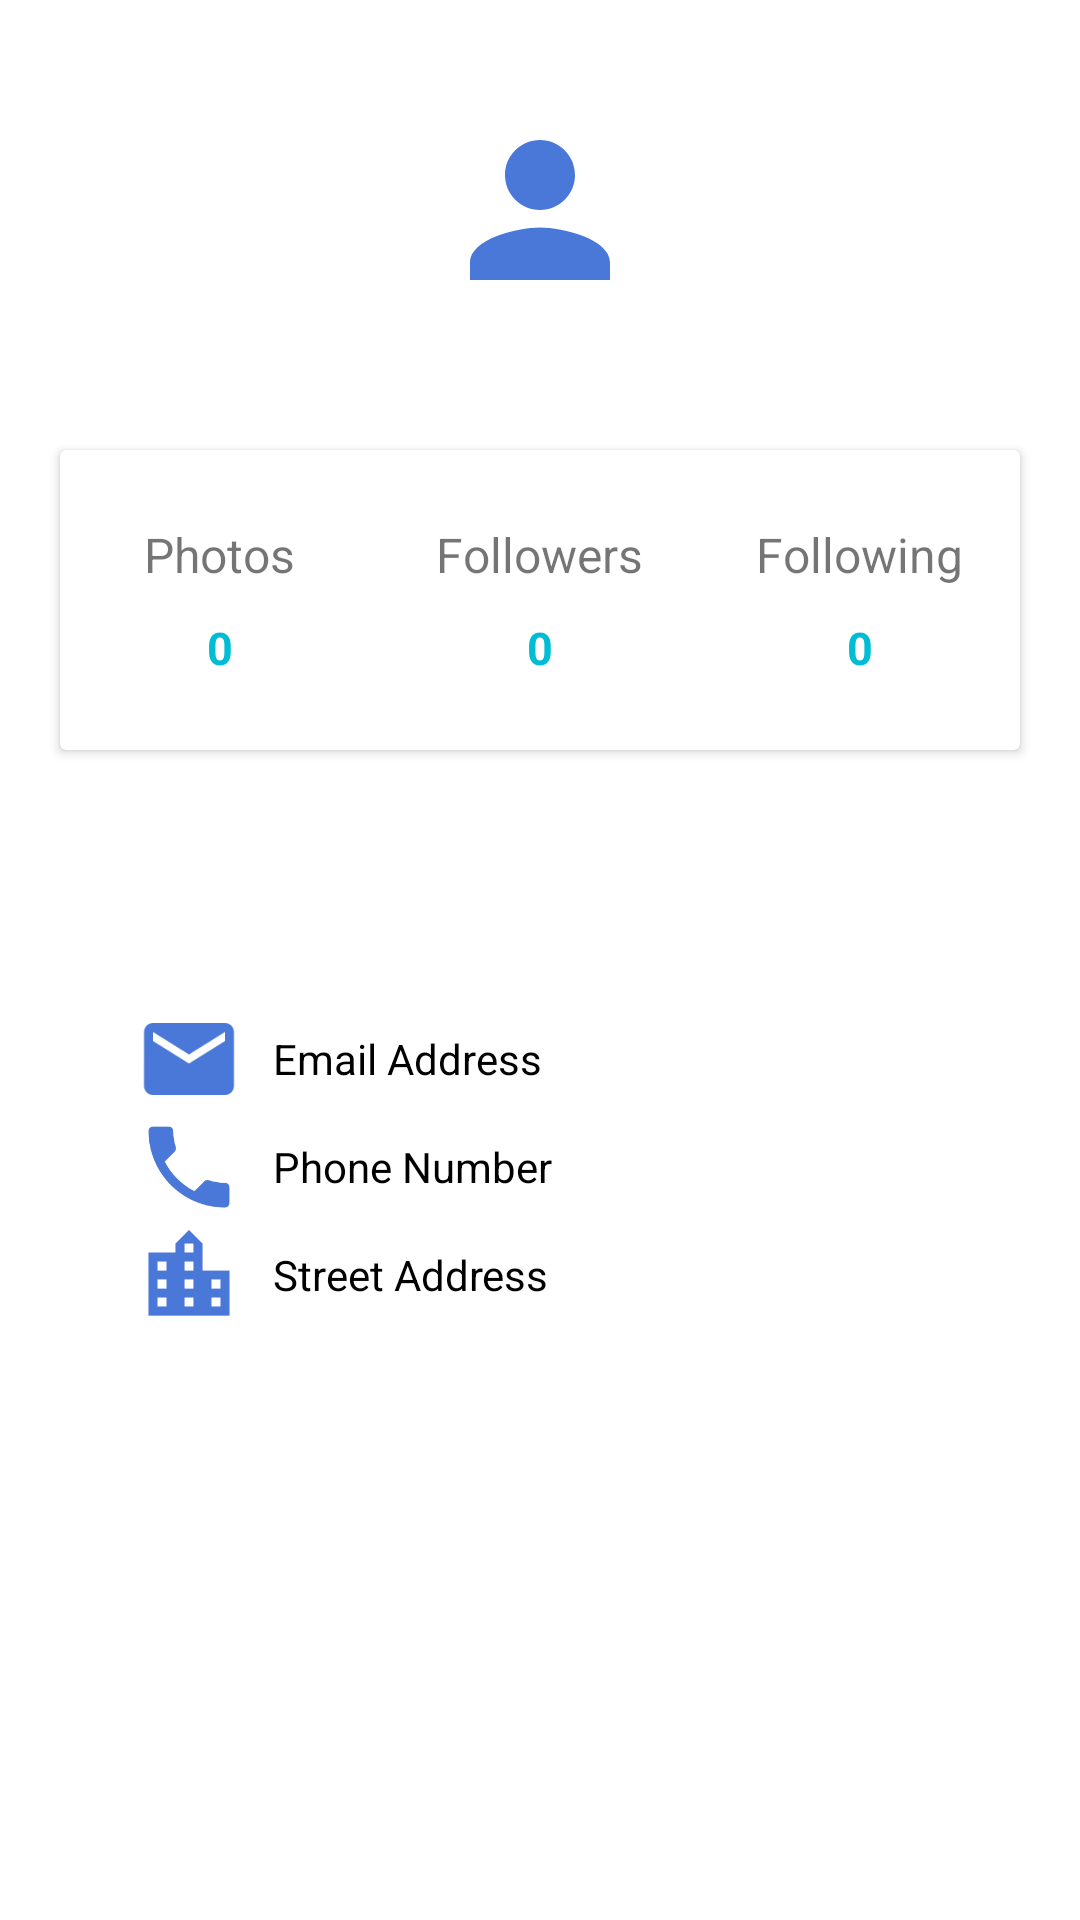

Icons on this 1080*1920 Android screen, each with its box as (x1, y1, x2, y2):
city: (148, 1230, 230, 1316)
profile: (470, 140, 610, 280)
